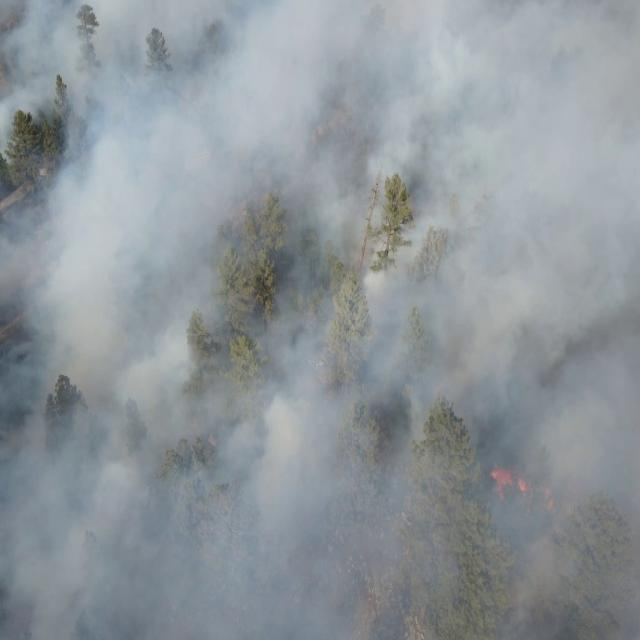fire: (492, 466, 530, 506), (541, 480, 556, 510)
smoke: (0, 0, 640, 640)
